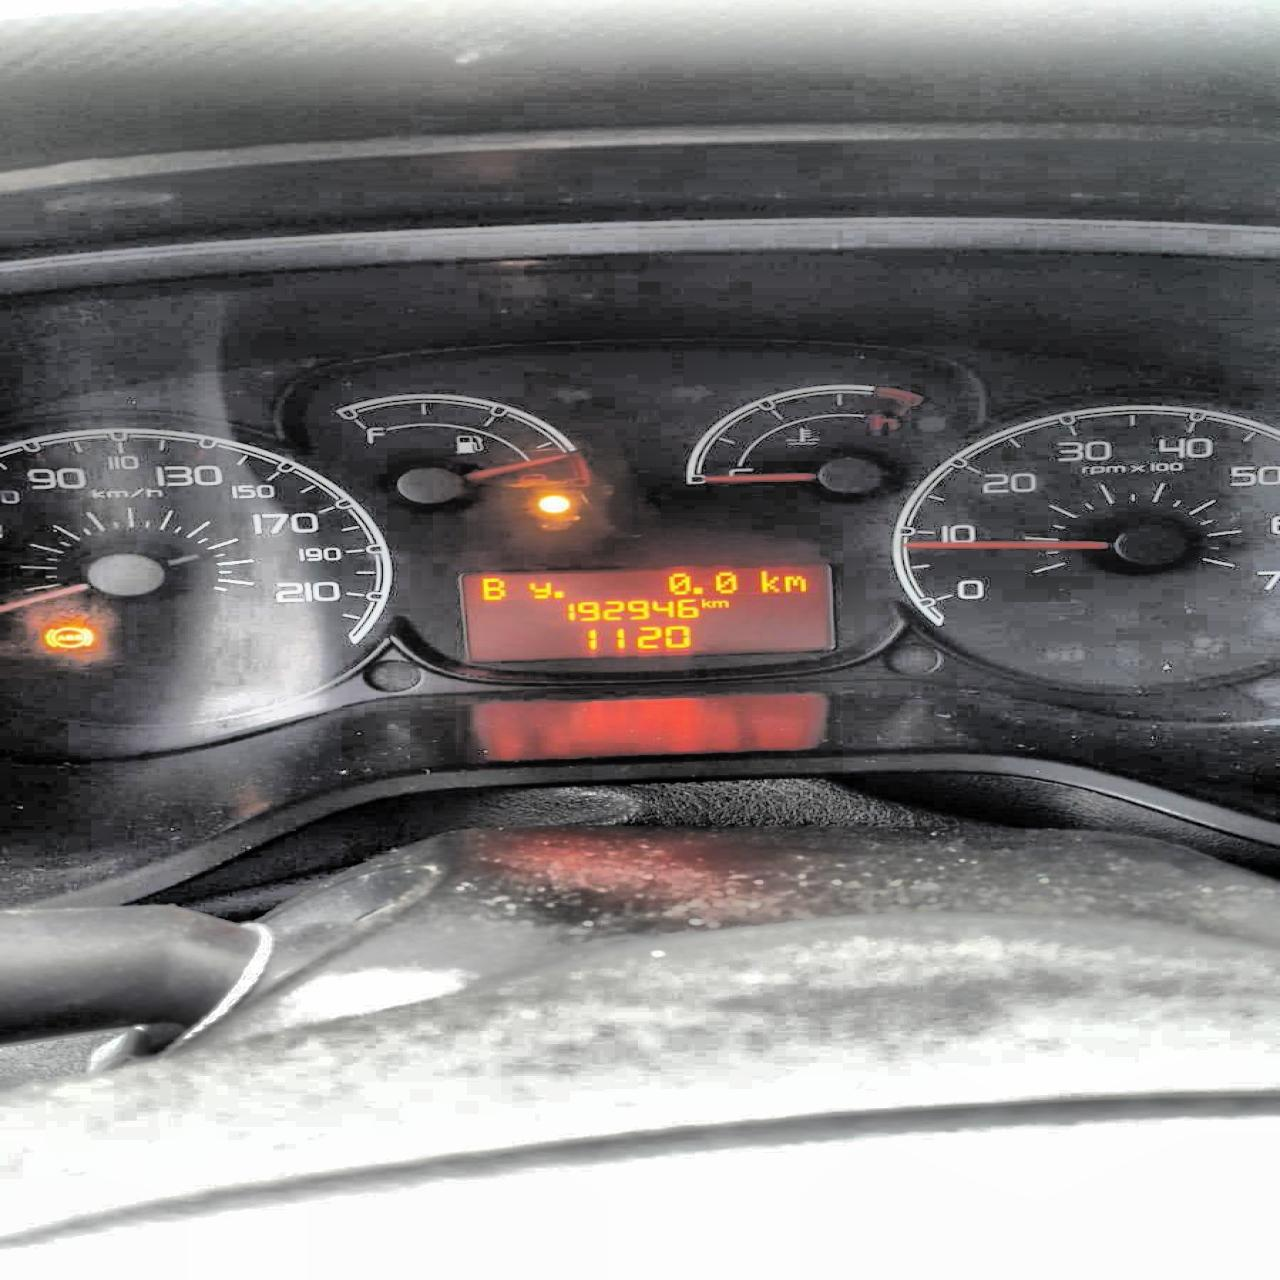-: (689, 584, 704, 594), (550, 588, 563, 599)
0: (662, 624, 690, 648), (712, 571, 736, 594), (665, 572, 690, 594)
1: (584, 626, 599, 651), (613, 626, 626, 651), (565, 600, 578, 621)
2: (635, 625, 661, 649), (600, 599, 624, 620)
4: (651, 598, 675, 618)
6: (676, 597, 701, 618)
9: (625, 598, 648, 620), (577, 600, 599, 621)
X: (475, 574, 506, 599), (778, 572, 808, 593), (756, 567, 779, 593), (525, 579, 551, 600), (710, 599, 729, 608), (701, 597, 710, 610)
odometer: (456, 564, 836, 662)
